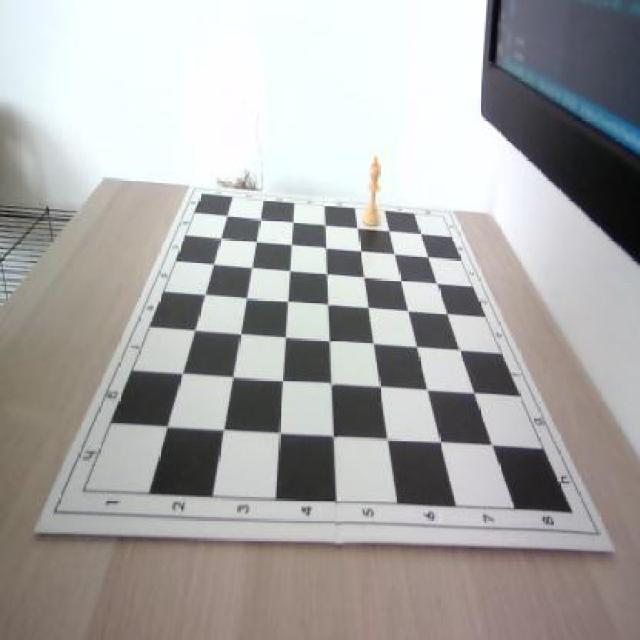black-rook: (363, 152, 382, 227)
